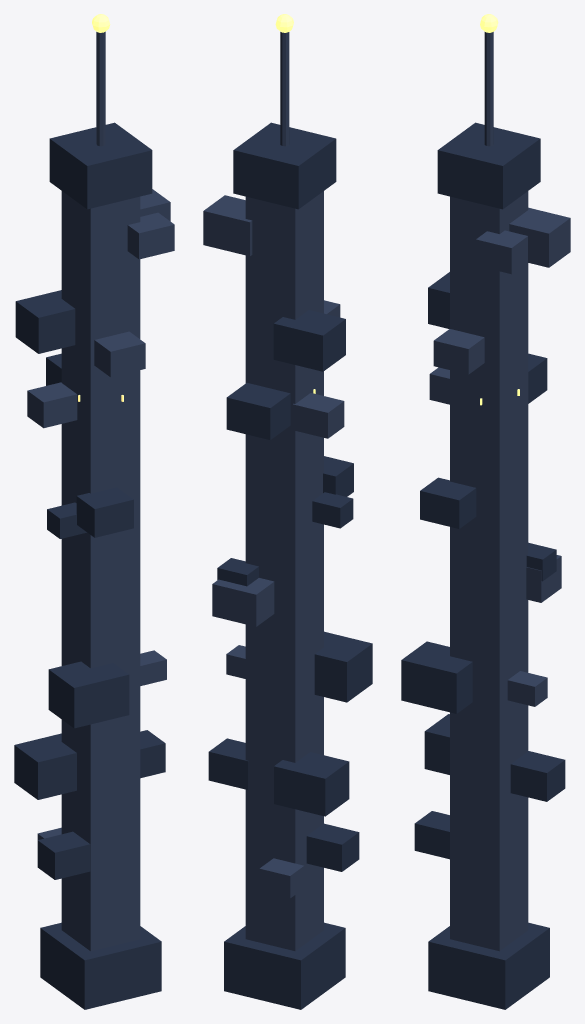
File: tower-b.glb
The picture shows the model from 3 angles, left to right: view 1: azimuth 30°, elevation 25°; view 2: azimuth 150°, elevation 25°; view 3: azimuth 330°, elevation 25°; orthographic projection.
Visible parts, largest first — view 1: Cube, Cube.001, Cube.018, Cube.006, Cube.005, Cube.015, Cube.011, Cube.003, Cube.014, Cube.012, Cube.017, Cylinder (+5 smaller); view 2: Cube, Cube.001, Cube.018, Cube.005, Cube.015, Cube.006, Cube.013, Cube.009, Cube.016, Cube.003, Cube.012, Cube.004 (+6 smaller); view 3: Cube, Cube.001, Cube.018, Cube.006, Cube.016, Cube.011, Cube.004, Cube.014, Cube.017, Cube.003, Cube.005, Cube.007 (+6 smaller).
Part boxes in pixels (box(x1,y1,x2,y2)): Cube: box(61, 191, 140, 951); Cube.001: box(40, 922, 161, 1009); Cube.018: box(49, 122, 152, 209); Cube.006: box(48, 661, 129, 728); Cube.005: box(14, 733, 76, 799); Cube.015: box(15, 290, 75, 353); Cube.011: box(76, 487, 133, 537); Cube.003: box(37, 831, 90, 879); Cube.014: box(94, 331, 145, 377); Cube.012: box(27, 382, 77, 428); Cube.017: box(127, 212, 174, 259); Cylinder: box(96, 31, 105, 146); Cube: box(245, 191, 323, 951); Cube.001: box(224, 922, 345, 1009); Cube.018: box(233, 122, 336, 209); Cube.005: box(274, 752, 349, 816); Cube.015: box(273, 310, 345, 371); Cube.006: box(314, 631, 372, 702); Cube.013: box(226, 383, 290, 440); Cube.009: box(212, 578, 274, 626); Cube.016: box(203, 195, 252, 256); Cube.003: box(306, 823, 359, 871); Cube.012: box(292, 393, 344, 438); Cube.004: box(208, 738, 248, 789); Cube: box(450, 191, 528, 951); Cube.001: box(428, 922, 549, 1009); Cube.018: box(437, 122, 540, 209); Cube.006: box(401, 641, 472, 713); Cube.016: box(509, 207, 570, 267); Cube.011: box(420, 477, 476, 528); Cube.004: box(510, 751, 565, 801); Cube.014: box(433, 329, 484, 374); Cube.017: box(476, 230, 527, 274); Cube.003: box(414, 811, 449, 859); Cube.005: box(424, 714, 449, 774); Cube.007: box(507, 671, 547, 706).
Bounding box in the file's own units: 10.84 × 78.2 × 9.82.
